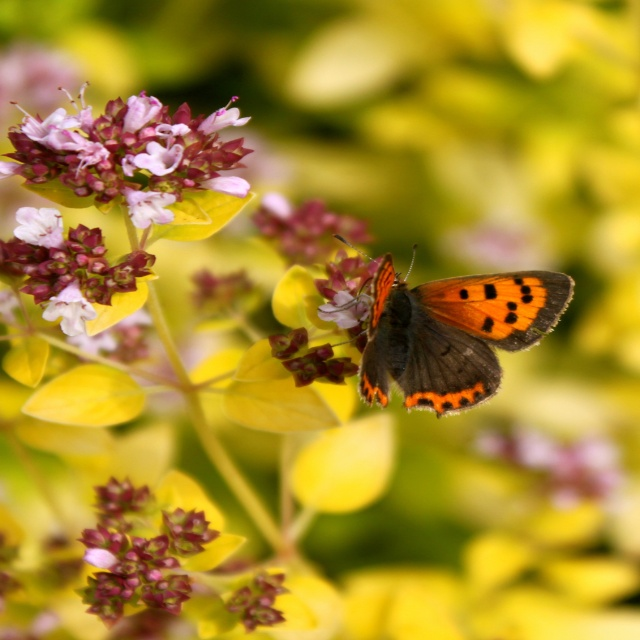Butterfly: (313, 232, 581, 420)
